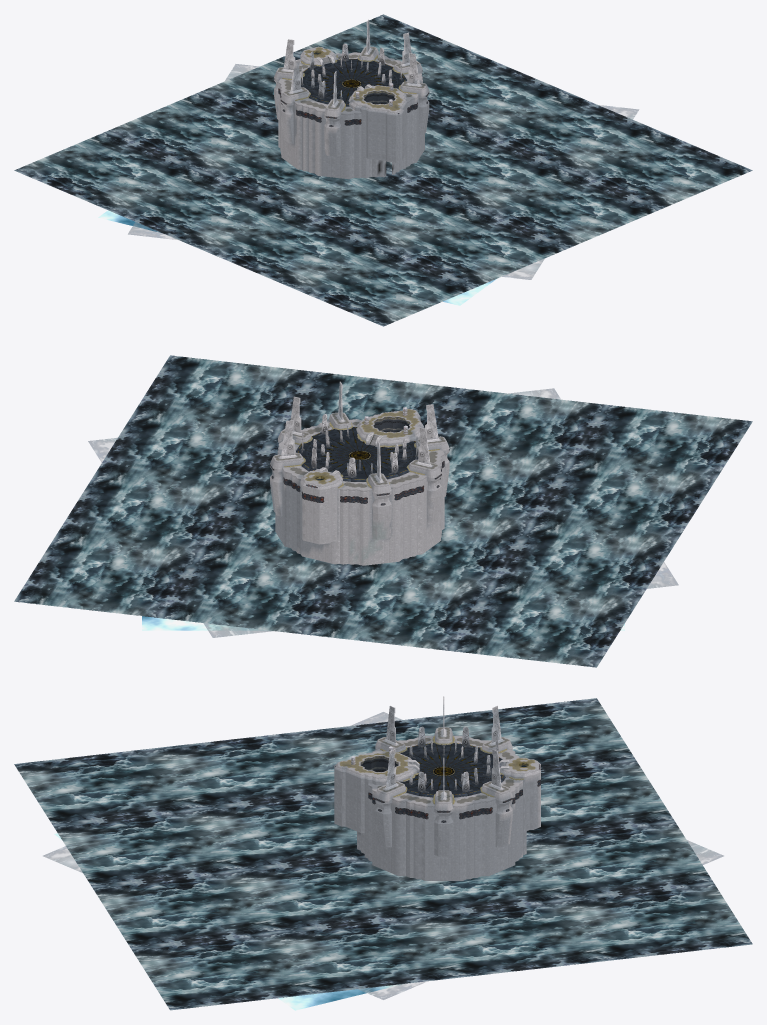
File: anterose.gltf
3 views of the same model, one above another, from view 1: azimuth 30°, elevation 25°; view 2: azimuth 150°, elevation 25°; view 3: azimuth 270°, elevation 25° (orthographic). The views are drawn at different scales.
Visible parts, largest first — view 1: material_25, material_1, material_0, material_2, material_24, material_13, material_10, material_12, material_3, material_11, material_23, material_15; view 2: material_25, material_1, material_0, material_2, material_24, material_13, material_10, material_12, material_23, material_3, material_11, material_15 (+4 smaller); view 3: material_25, material_1, material_0, material_2, material_24, material_13, material_10, material_23, material_15, material_3, material_12, material_11 (+3 smaller).
Part boxes in pixels (left/top/right/bottom): material_25: left=14, top=14, right=752, bottom=326; material_1: left=274, top=54, right=429, bottom=179; material_0: left=274, top=49, right=429, bottom=119; material_2: left=276, top=46, right=426, bottom=113; material_24: left=128, top=64, right=638, bottom=279; material_13: left=301, top=43, right=402, bottom=99; material_10: left=301, top=59, right=406, bottom=106; material_12: left=283, top=19, right=420, bottom=106; material_3: left=303, top=46, right=404, bottom=111; material_11: left=282, top=35, right=421, bottom=107; material_23: left=98, top=210, right=496, bottom=305; material_15: left=315, top=68, right=387, bottom=98; material_25: left=14, top=355, right=752, bottom=667; material_1: left=270, top=417, right=449, bottom=565; material_0: left=270, top=410, right=449, bottom=497; material_2: left=273, top=411, right=446, bottom=490; material_24: left=88, top=388, right=678, bottom=637; material_13: left=300, top=414, right=418, bottom=478; material_10: left=296, top=427, right=418, bottom=481; material_12: left=282, top=381, right=440, bottom=482; material_23: left=142, top=616, right=624, bottom=630; material_3: left=304, top=408, right=420, bottom=484; material_11: left=279, top=399, right=438, bottom=482; material_15: left=318, top=437, right=401, bottom=472; material_25: left=14, top=698, right=752, bottom=1010; material_1: left=334, top=748, right=540, bottom=880; material_0: left=334, top=729, right=540, bottom=812; material_2: left=350, top=727, right=537, bottom=805; material_24: left=43, top=712, right=723, bottom=999; material_13: left=409, top=726, right=499, bottom=792; material_10: left=399, top=743, right=505, bottom=797; material_23: left=54, top=833, right=403, bottom=1010; material_15: left=409, top=753, right=485, bottom=788; material_3: left=338, top=751, right=537, bottom=776; material_12: left=384, top=696, right=503, bottom=799; material_11: left=384, top=717, right=503, bottom=799.
Size of the model in its own units: 392 by 81.73 by 392.
27 materials, 27 textured.
